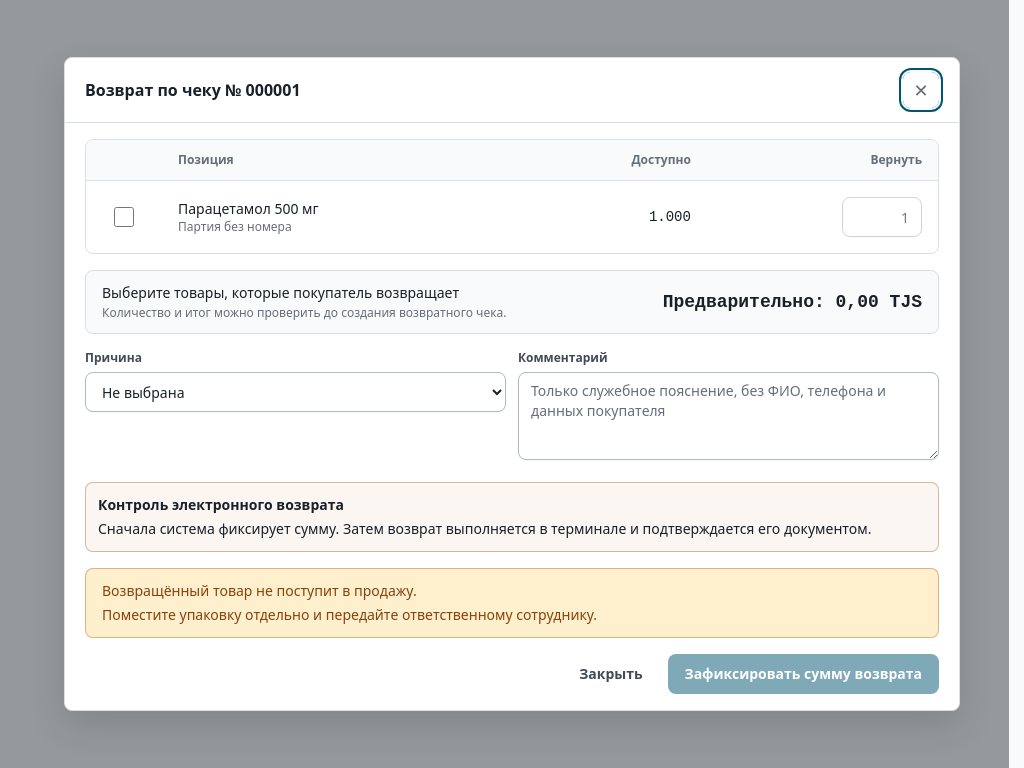
Test: RefundModal › lets a cashier create a request but hides confirmation controls without permission
Click the checkbox named "Вернуть Парацетамол 500 мг" at (124, 217), box [114,207,134,227]
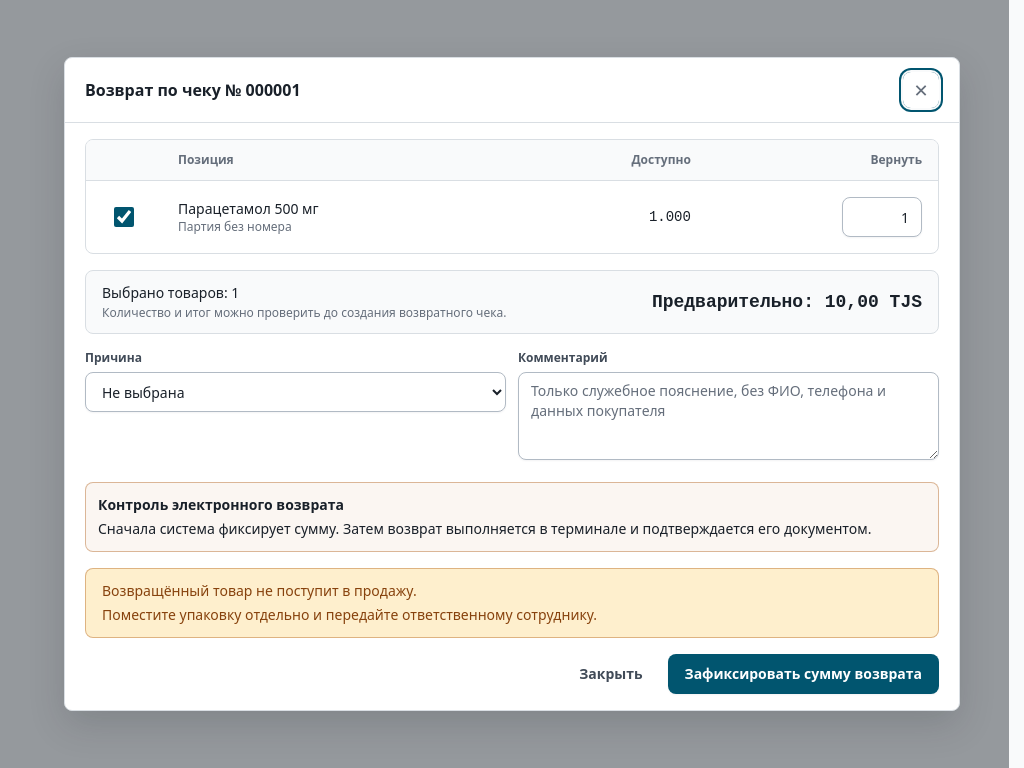
Click the button "Зафиксировать сумму возврата" at (803, 674), box [668,654,939,694]
(page scrolled)
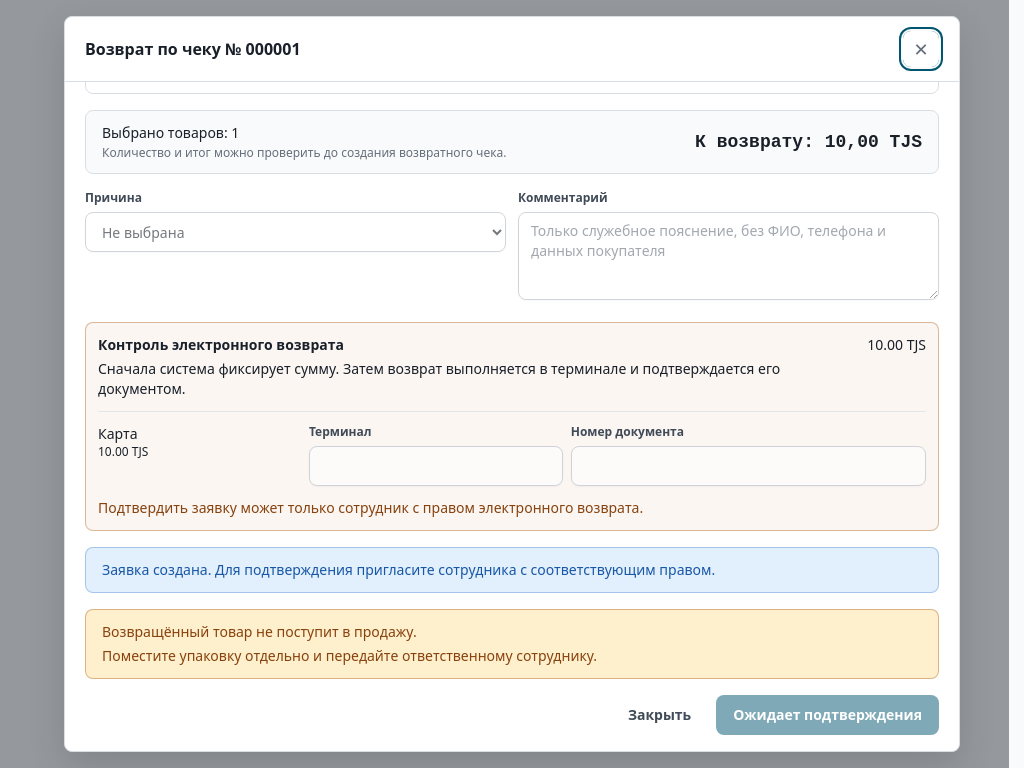
Check: the text "Для подтверждения пригласите сотрудника" is shown, box [102,560,715,579]
Check: the field labelled "Терминал" is disabled, box [309,446,563,486]
Check: the button "Ожидает подтверждения" is disabled, box [716,695,939,735]
